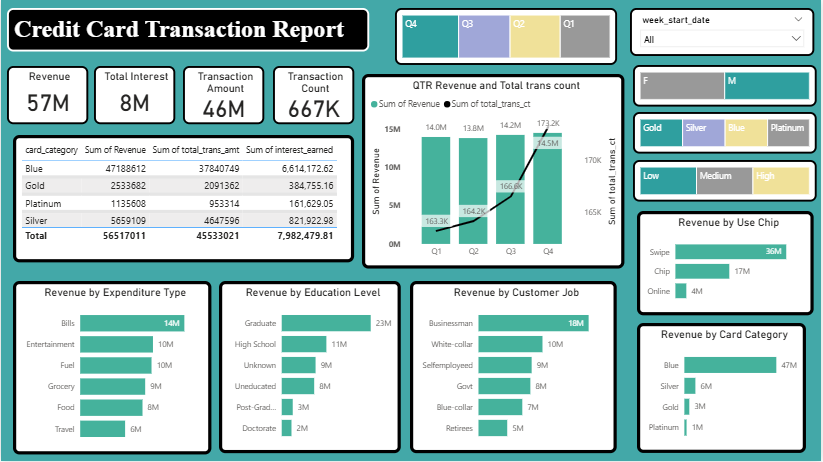

What the dashboard file says about the page in this screenshot:
{"tool":"powerbi","page":{"name":"CC Transaction","canvas":[1280,720],"ordinal":1},"visuals":[{"type":"textbox","box":[8.6,13,565.9,67.7],"z":0},{"type":"lineStackedColumnComboChart","title":"QTR Revenue and Total trans count","fields":{"Category":["public cc_detail.qtr"],"Y":["Sum(public cc_detail.Revenue)"],"Y2":["Sum(public cc_detail.total_trans_ct)"]},"box":[564.5,115.2,410.4,303.8],"z":1000},{"type":"barChart","title":"Revenue by Expenditure Type","fields":{"Y":["Sum(public cc_detail.Revenue)"],"Category":["public cc_detail.exp_type"]},"box":[18.7,439.2,309.6,270.7],"z":2000},{"type":"barChart","title":"Revenue by Education Level","fields":{"Y":["Sum(public cc_detail.Revenue)"],"Category":["public cust_detail.education_level"]},"box":[341.3,439.2,283.7,269.3],"z":3000},{"type":"barChart","title":"Revenue by Customer Job","fields":{"Y":["Sum(public cc_detail.Revenue)"],"Category":["public cust_detail.customer_job"]},"box":[639.4,439.2,322.6,269.3],"z":4000},{"type":"barChart","title":"Revenue by Card Category","fields":{"Y":["Sum(public cc_detail.Revenue)"],"Category":["public cc_detail.card_category"]},"box":[993.6,505.4,263.5,203],"z":5000},{"type":"barChart","title":"Revenue by Use Chip","fields":{"Y":["Sum(public cc_detail.Revenue)"],"Category":["public cc_detail.use_chip"]},"box":[993.6,329.8,276.5,162.7],"z":6000},{"type":"tableEx","fields":{"Values":["public cc_detail.card_category","Sum(public cc_detail.Revenue)","Sum(public cc_detail.total_trans_amt)","Sum(public cc_detail.interest_earned)"]},"box":[18.7,210.2,532.8,198.7],"z":7000},{"type":"card","title":"Transaction Amount","fields":{"Values":["Sum(public cc_detail.total_trans_amt)"]},"box":[285.1,103.7,126.7,90.7],"z":8000},{"type":"card","title":"Total Interest","fields":{"Values":["Sum(public cc_detail.interest_earned)"]},"box":[145.4,103.7,126.7,90.7],"z":9000},{"type":"card","title":"Transaction Count","fields":{"Values":["Sum(public cc_detail.total_trans_ct)"]},"box":[424.8,103.7,126.7,90.7],"z":10000},{"type":"card","title":"Revenue","fields":{"Values":["Sum(public cc_detail.Revenue)"]},"box":[8.6,103.7,126.7,90.7],"z":11000},{"type":"slicer","fields":{"Values":["public cc_detail.week_start_date"]},"box":[982.1,13,288,75],"z":12000},{"type":"treemap","fields":{"Group":["public cc_detail.qtr"],"Values":["Avg(public cc_detail.client_num)"]},"box":[614.9,13,347,89.3],"z":13000},{"type":"treemap","fields":{"Values":["Avg(public cc_detail.client_num)"],"Group":["public cust_detail.gender"]},"box":[987.8,102.2,286.6,64.8],"z":14000},{"type":"treemap","fields":{"Values":["Avg(public cc_detail.client_num)"],"Group":["public cc_detail.card_category"]},"box":[987.8,175.7,286.6,65],"z":15000},{"type":"treemap","fields":{"Values":["Avg(public cc_detail.client_num)"],"Group":["public cust_detail.IncomeGroup"]},"box":[987.8,250.6,286.6,65],"z":16000}]}

Visuals, with their boxes in screenshot pixels (x1, y1, x2, y2), scaled from the page's 1280x720 canvas onto the 823x462 screenshot:
textbox: bbox(6, 8, 369, 52)
"QTR Revenue and Total trans count" lineStackedColumnComboChart: bbox(363, 74, 627, 269)
"Revenue by Expenditure Type" barChart: bbox(12, 282, 211, 456)
"Revenue by Education Level" barChart: bbox(219, 282, 402, 455)
"Revenue by Customer Job" barChart: bbox(411, 282, 619, 455)
"Revenue by Card Category" barChart: bbox(639, 324, 808, 455)
"Revenue by Use Chip" barChart: bbox(639, 212, 817, 316)
tableEx - public cc_detail.card_category x Sum(public cc_detail.Revenue): bbox(12, 135, 355, 262)
"Transaction Amount" card: bbox(183, 67, 265, 125)
"Total Interest" card: bbox(93, 67, 175, 125)
"Transaction Count" card: bbox(273, 67, 355, 125)
"Revenue" card: bbox(6, 67, 87, 125)
slicer - public cc_detail.week_start_date: bbox(631, 8, 817, 56)
treemap - public cc_detail.qtr x Avg(public cc_detail.client_num): bbox(395, 8, 618, 66)
treemap - Avg(public cc_detail.client_num) x public cust_detail.gender: bbox(635, 66, 819, 107)
treemap - Avg(public cc_detail.client_num) x public cc_detail.card_category: bbox(635, 113, 819, 154)
treemap - Avg(public cc_detail.client_num) x public cust_detail.IncomeGroup: bbox(635, 161, 819, 203)
